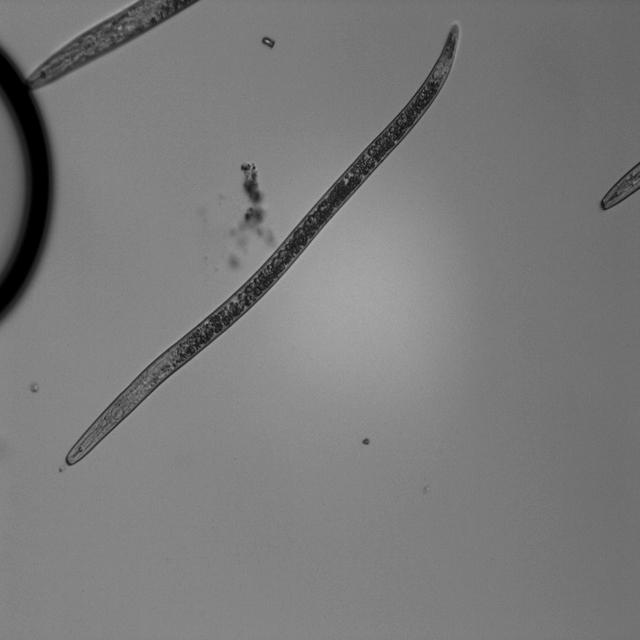Pratylenchus: (60, 21, 463, 477)
